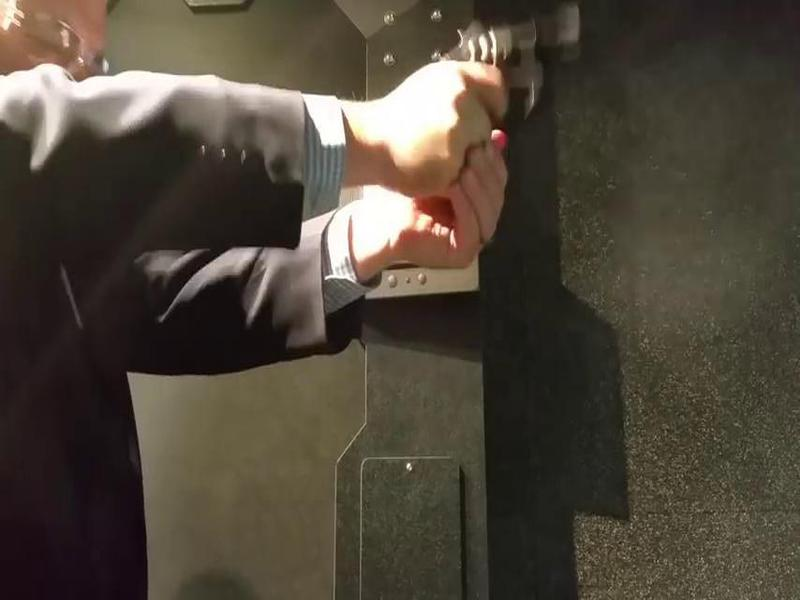Revolver: (402, 12, 589, 148)
